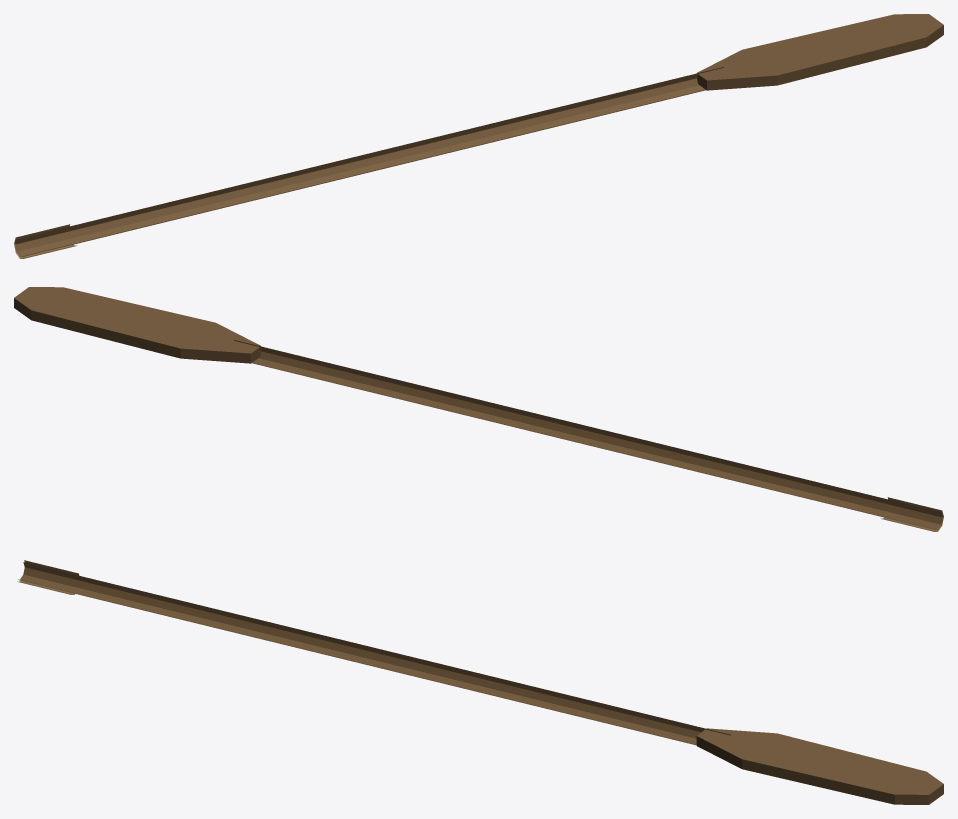
The model's file is rowing_oar.glb.
3 views of the same model, one above another, from view 1: azimuth 30°, elevation 25°; view 2: azimuth 150°, elevation 25°; view 3: azimuth 330°, elevation 25° (orthographic).
Parts seen in each view (by area): view 1: rowing_oar; view 2: rowing_oar; view 3: rowing_oar.
Boxes of the visible parts, <box> form: rowing_oar: <box>14,14,943,258</box>; rowing_oar: <box>14,287,943,531</box>; rowing_oar: <box>17,560,943,804</box>.
Size of the model in its own units: 2.85 by 0.064 by 0.19.
